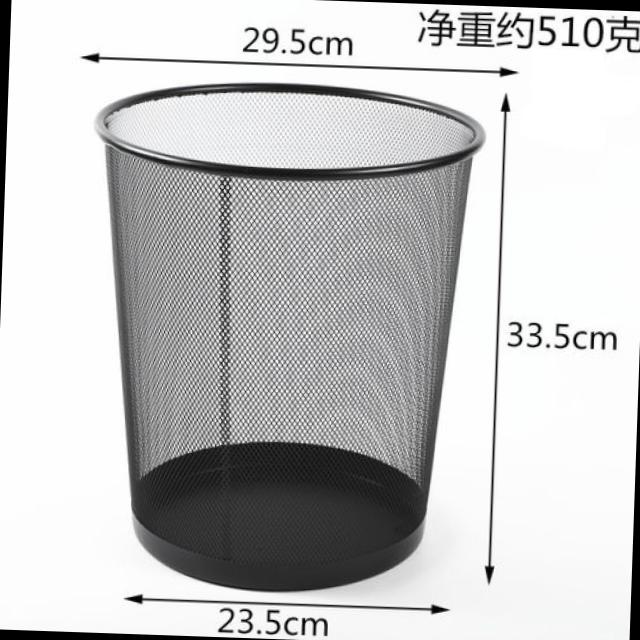dustbin: (74, 66, 491, 604)
